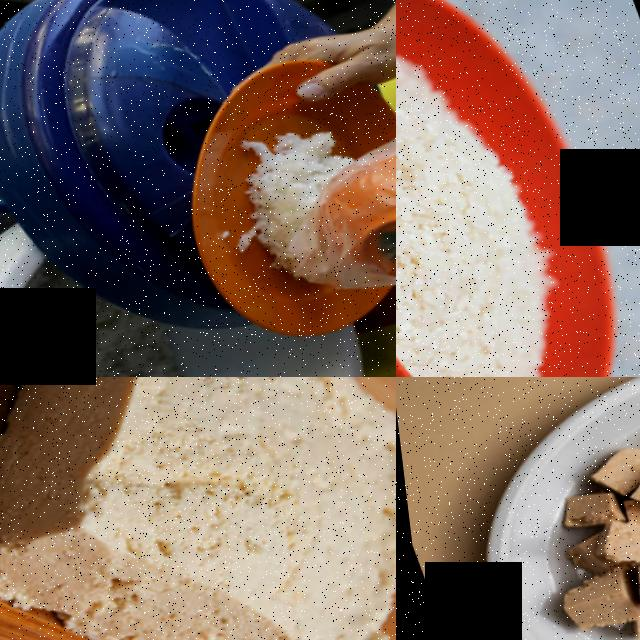tofu: (0, 377, 396, 640), (541, 563, 632, 636), (578, 506, 640, 576), (544, 483, 621, 537), (611, 453, 640, 524), (611, 551, 640, 620)
white rice: (396, 16, 565, 377), (0, 318, 180, 377), (226, 136, 322, 242)
